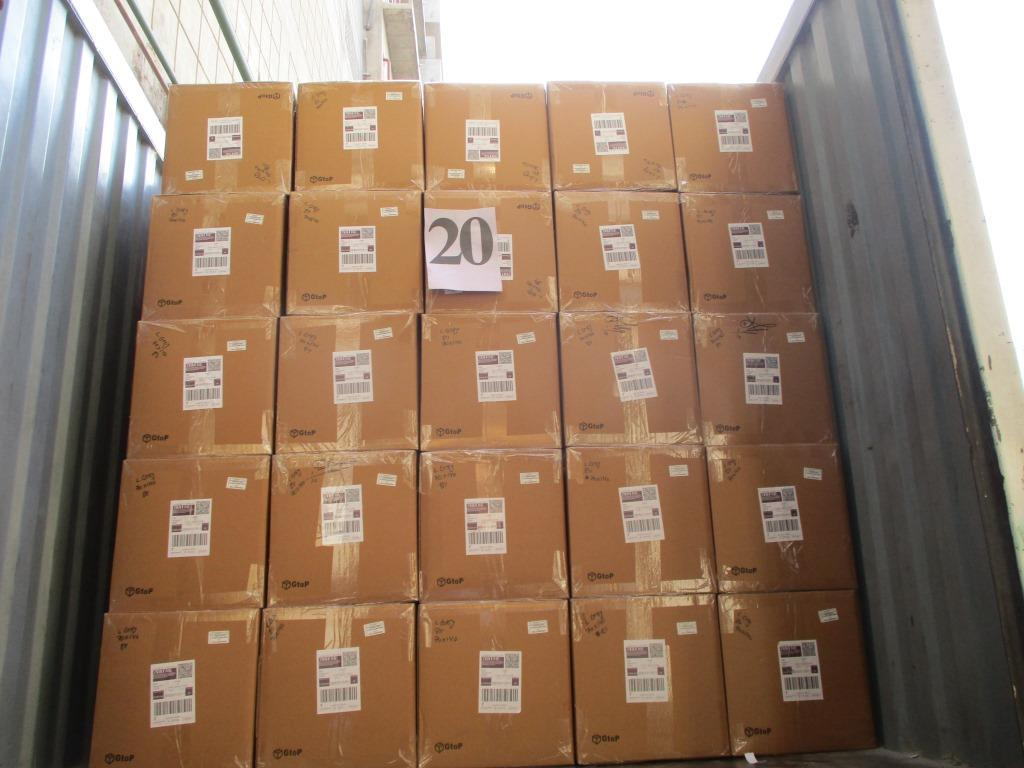carton: (87, 607, 259, 767), (571, 593, 729, 763), (255, 602, 416, 767), (417, 598, 572, 766), (108, 453, 270, 612), (719, 590, 876, 754), (266, 449, 417, 604), (418, 446, 568, 600), (565, 443, 716, 595), (705, 443, 856, 592), (128, 317, 277, 458), (275, 312, 420, 452), (419, 310, 560, 449), (558, 311, 701, 445), (694, 312, 838, 445), (141, 192, 285, 318), (285, 188, 424, 314), (422, 188, 557, 312), (553, 189, 688, 311), (679, 192, 813, 313), (161, 82, 294, 194), (666, 83, 797, 193), (294, 81, 424, 190), (547, 81, 676, 190), (423, 83, 550, 191)
